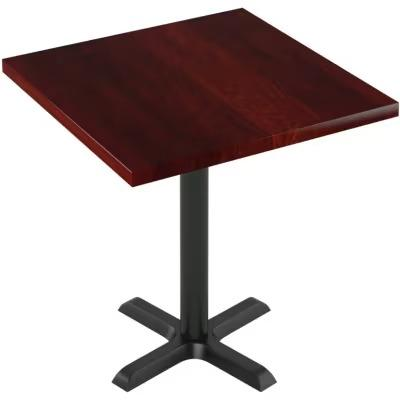Clean Table: (2, 1, 400, 198)
